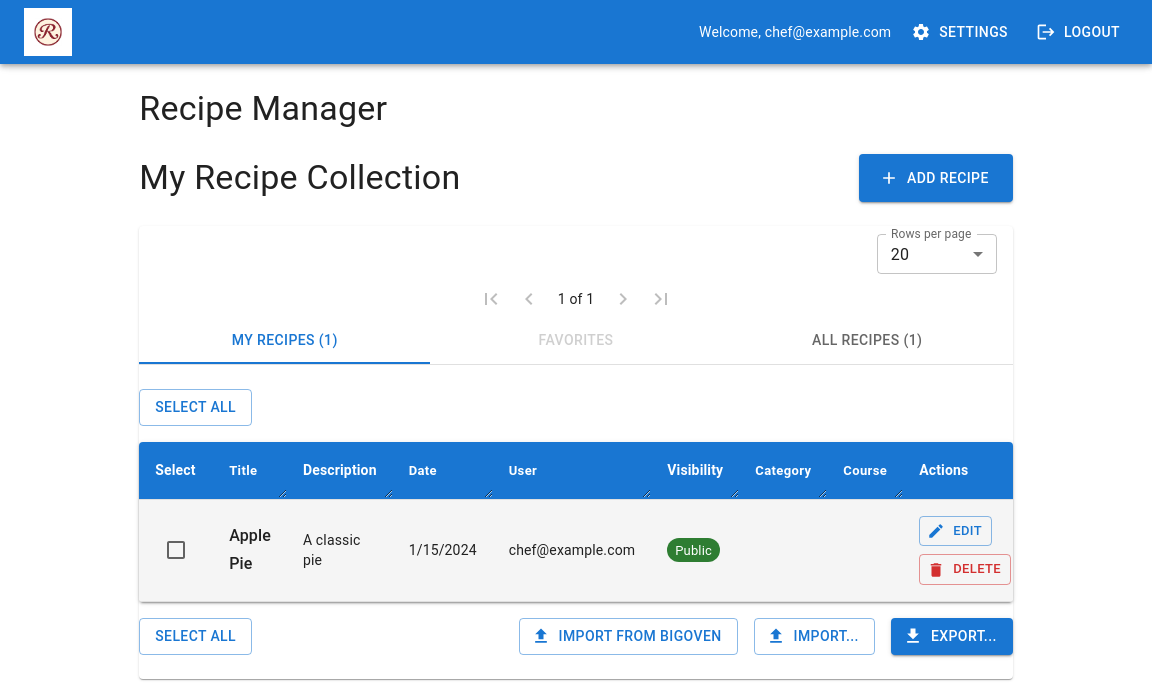
Test: HomePage export scope › export dialog shows All recipes in this tab option
expect the heading "Apple Pie" is shown: met, box top-left (229, 522), bottom-right (271, 578)
What coordinates should you click on to do the following:
click the button "Export..."
I would click on:
 (952, 636)
Its box is top-left (891, 618), bottom-right (1013, 655).
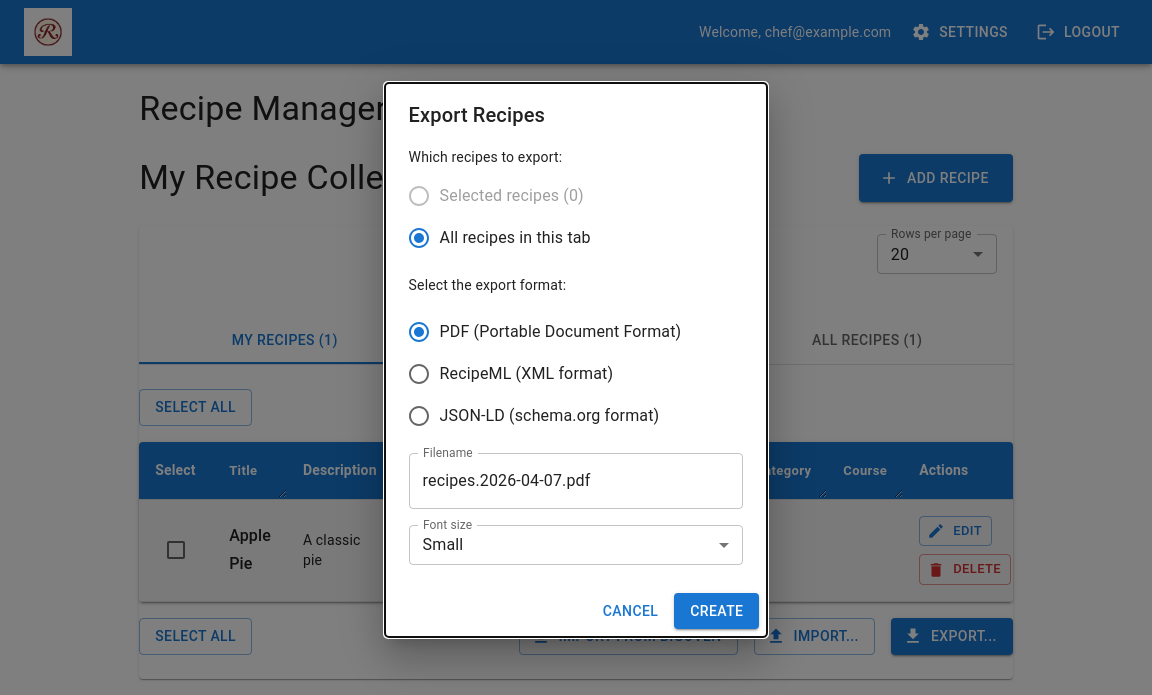
expect the text "All recipes in this tab" is shown: met, box top-left (440, 226), bottom-right (591, 250)
